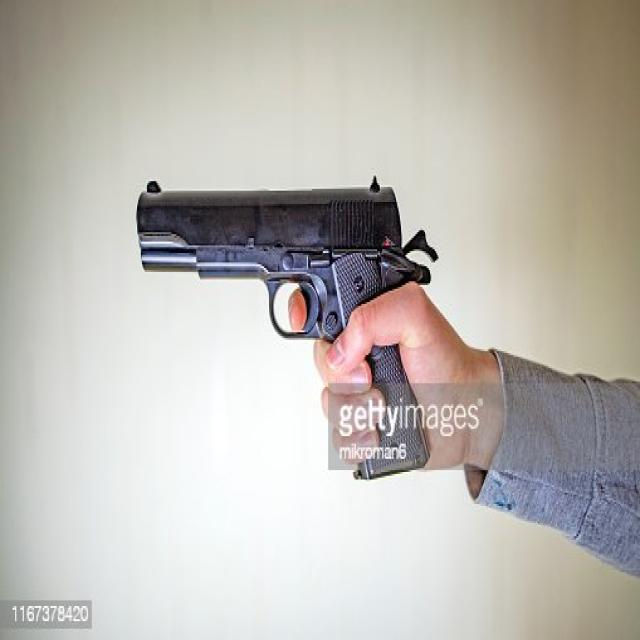HandGun: (136, 177, 439, 344)
